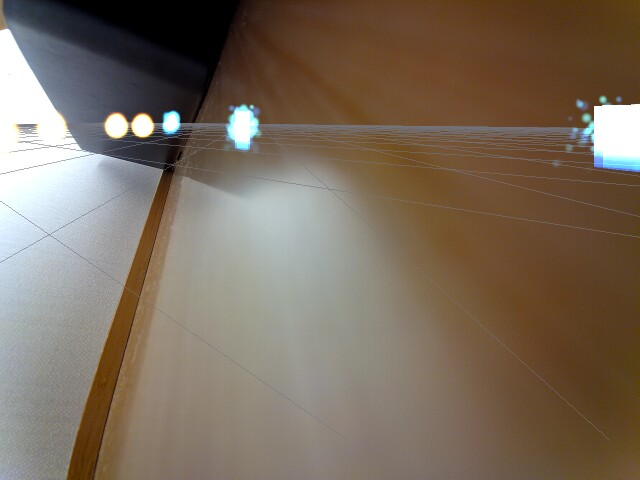firebig: (30, 98, 73, 156)
